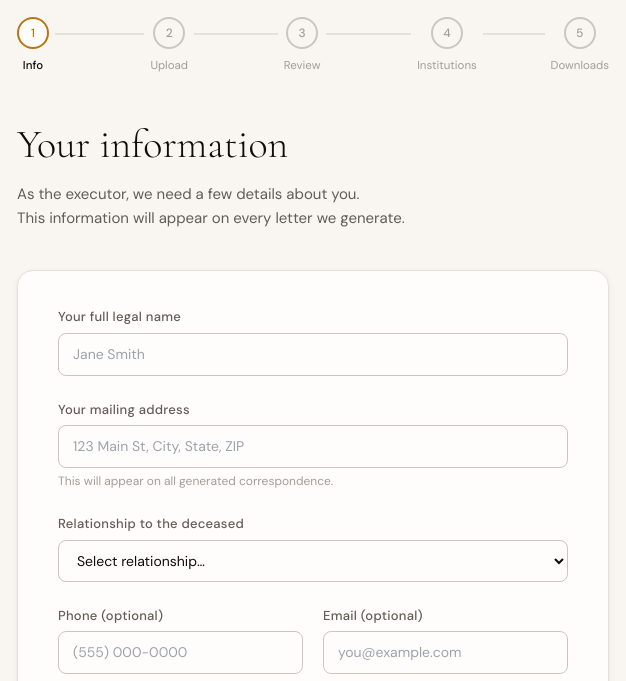
Test: NewCasePage (integration) › shows an email validation error for an invalid email address
The image size is (626, 681).
Type "Sarah Mitchell" into the field labelled "Your full legal name".
click(313, 354); type("Sarah Mitchell")  # box left=58, top=333, right=568, bottom=376
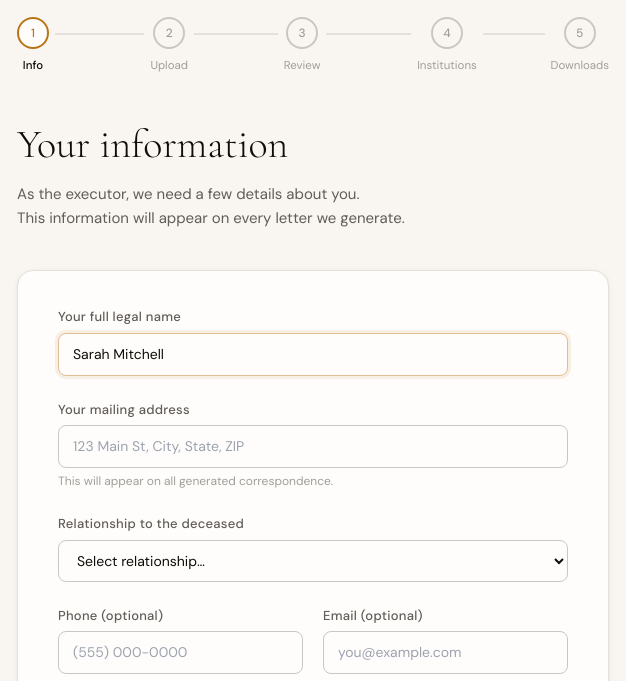
Type "412 Maple Ave, Springfield, IL" into the field labelled "Your mailing address".
click(313, 447); type("412 Maple Ave, Springfield, IL")  # box left=58, top=425, right=568, bottom=468
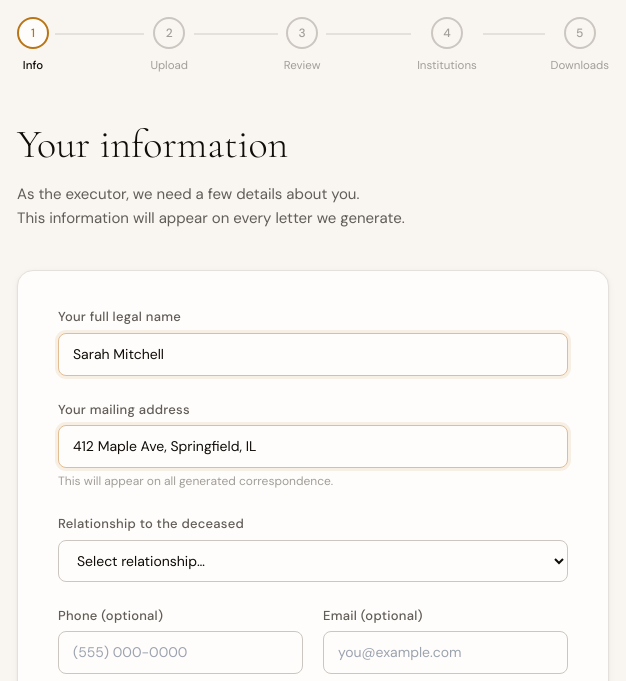
Select "Child" in the dropdown labelled "Relationship to the deceased" at (313, 561), box left=58, top=540, right=568, bottom=582
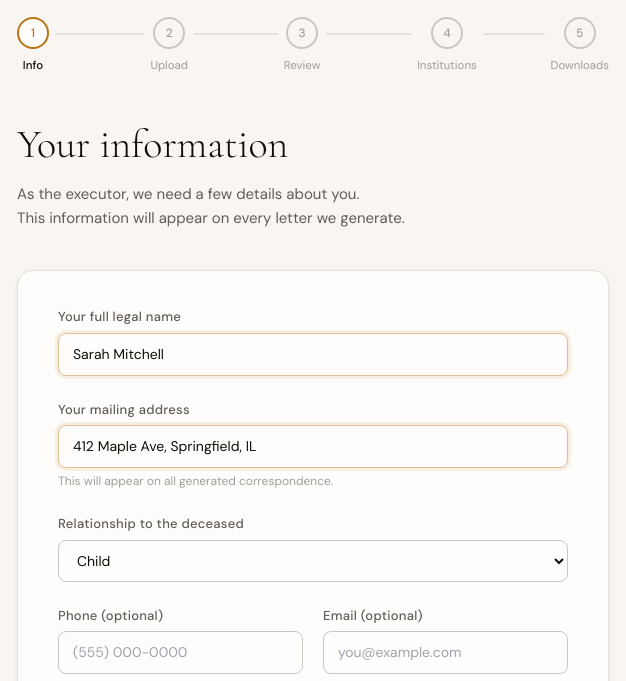
Type "not-an-email" into the field labelled "Email (optional)".
click(446, 653); type("not-an-email")  # box left=323, top=631, right=568, bottom=674
(page scrolled)
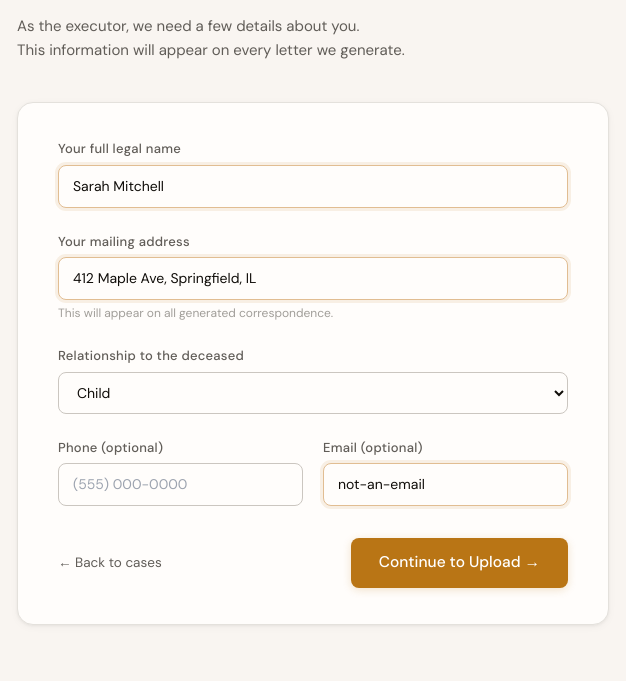
Click the button "Continue to Upload →".
click(459, 563)  # box left=351, top=538, right=568, bottom=588
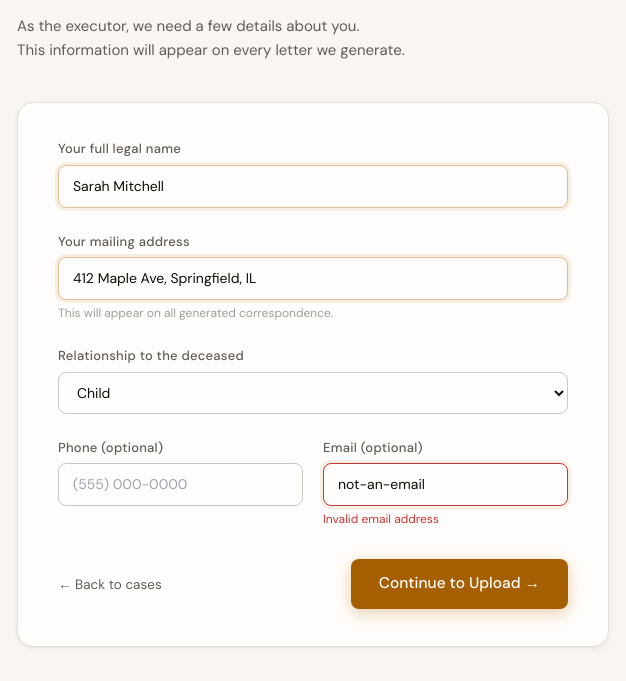
Now the text "Invalid email address" is shown, box left=323, top=511, right=439, bottom=527
